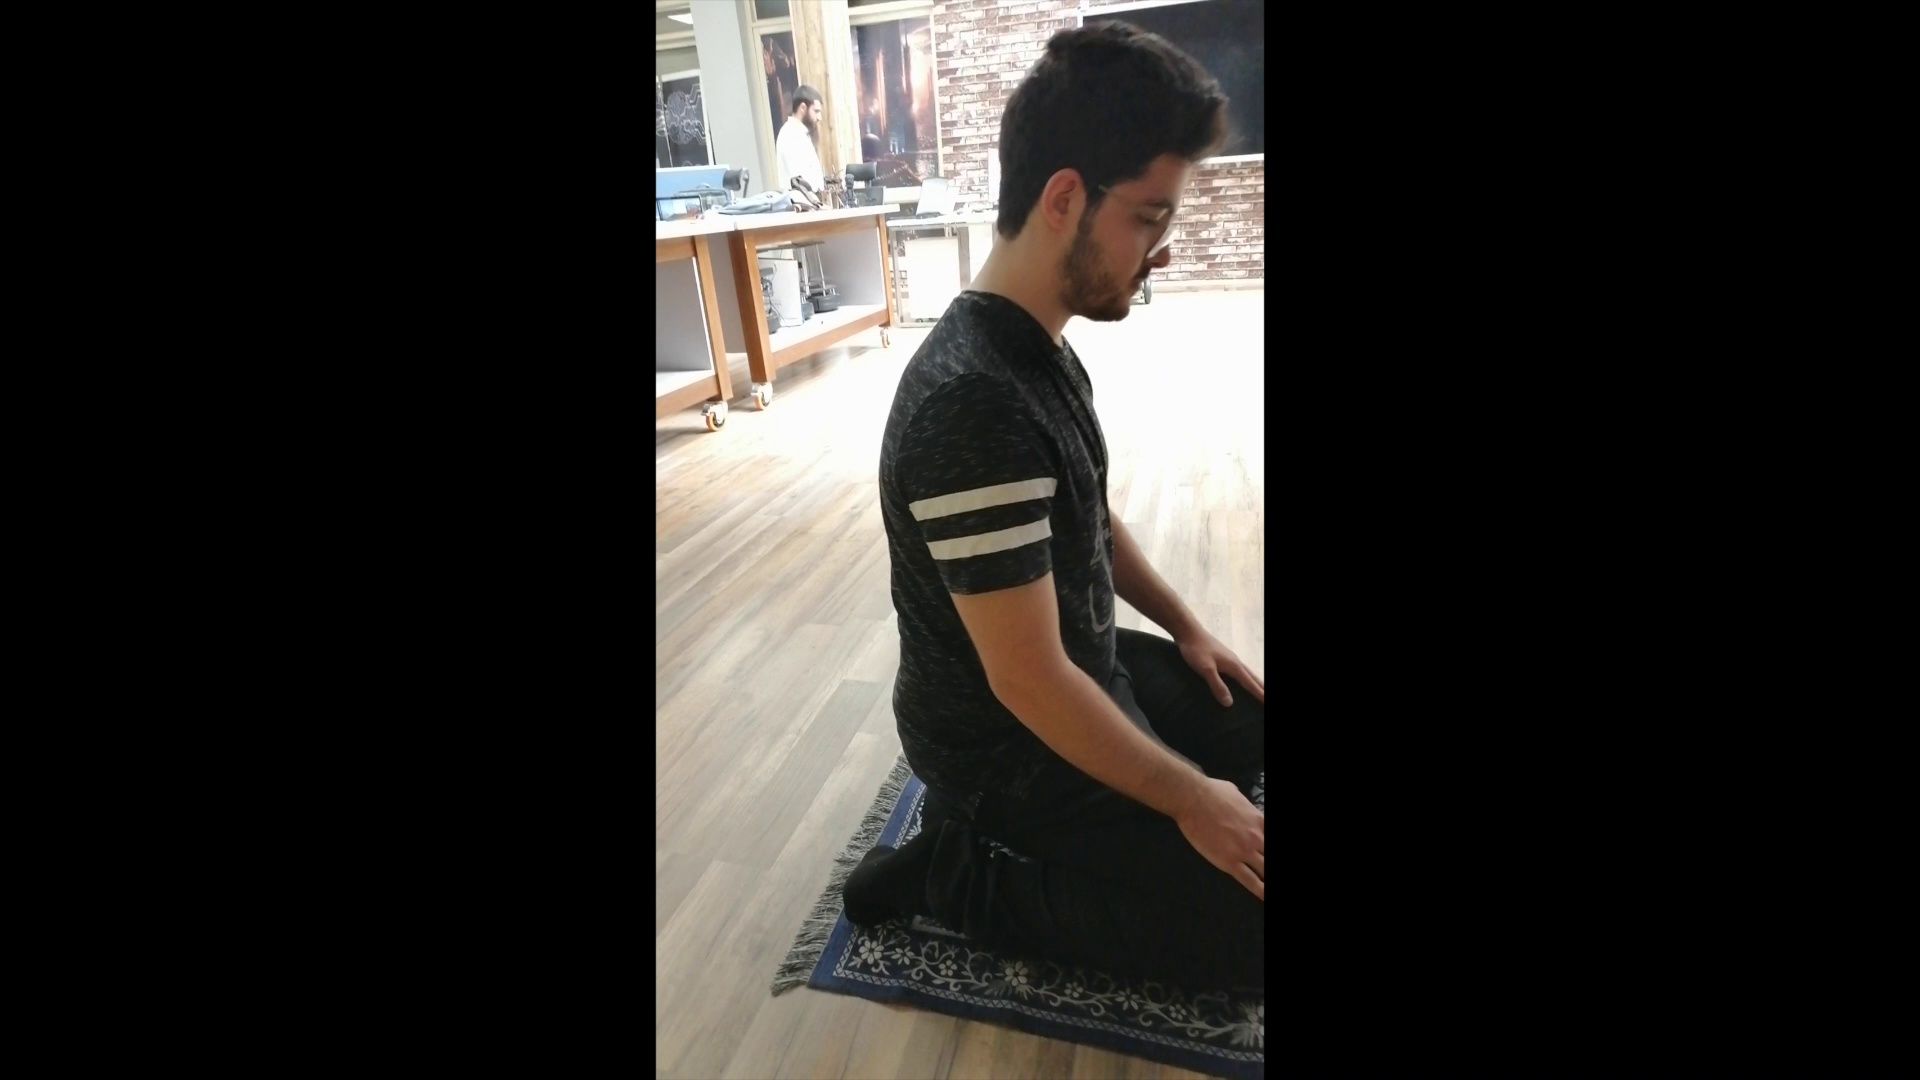sitting: (832, 13, 1261, 993)
